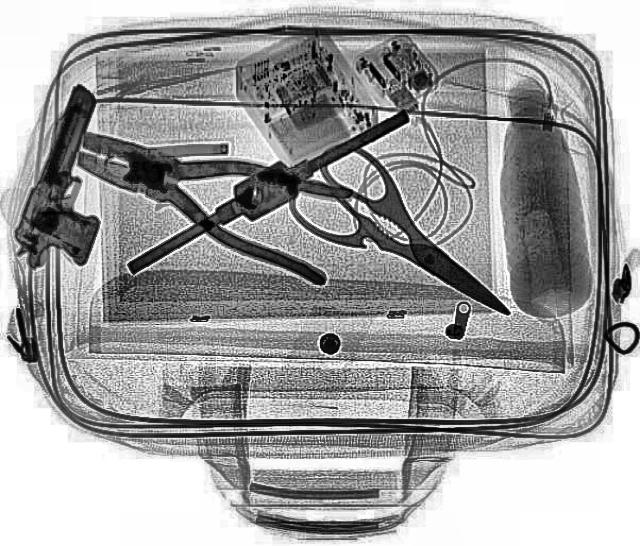Gun: (1, 80, 147, 276)
Pliers: (49, 102, 374, 288)
Scissors: (264, 133, 552, 347)
